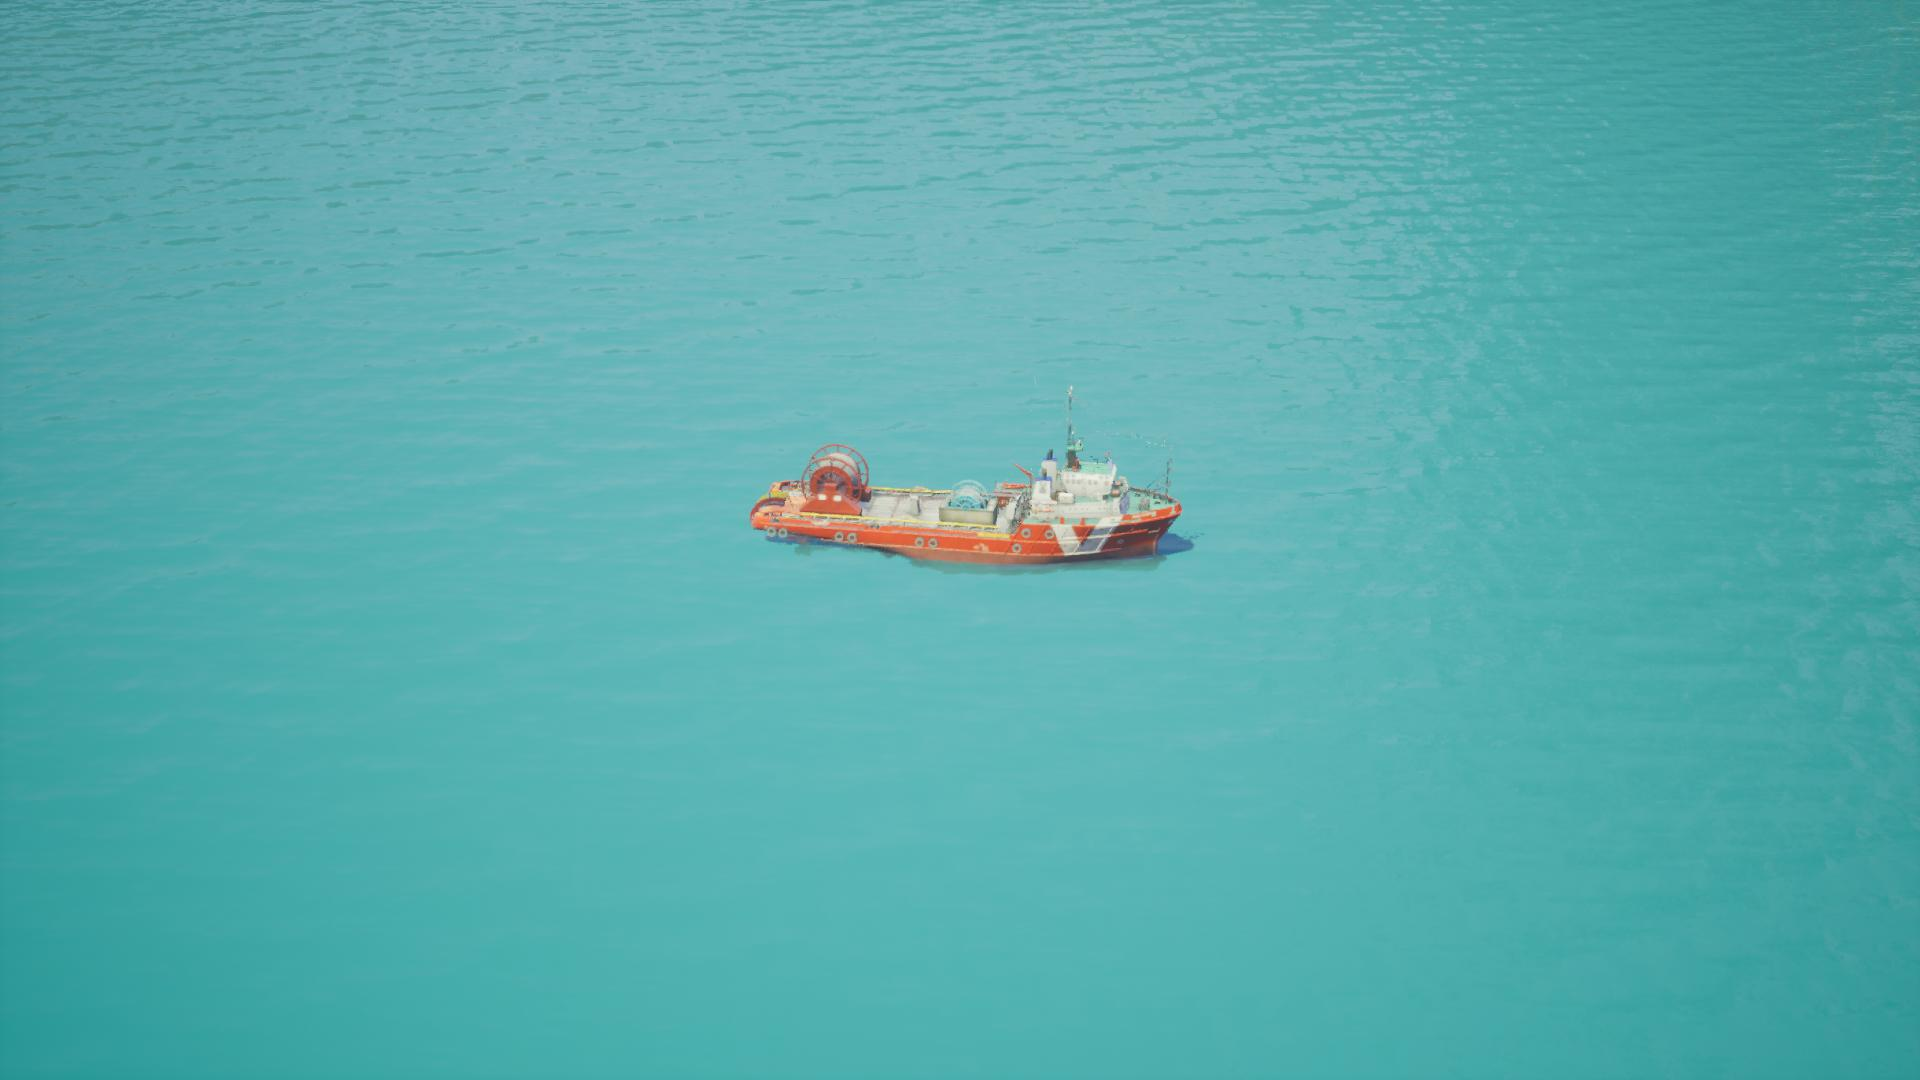Tug Boat: (753, 389, 1187, 570)
